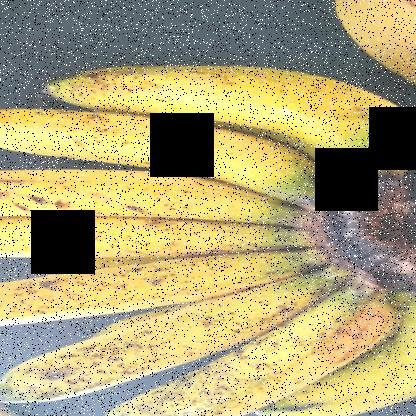ripe: (21, 265, 327, 408), (62, 59, 401, 173), (145, 285, 384, 415), (1, 111, 325, 196), (1, 255, 300, 328), (1, 158, 290, 228), (1, 205, 316, 264)
